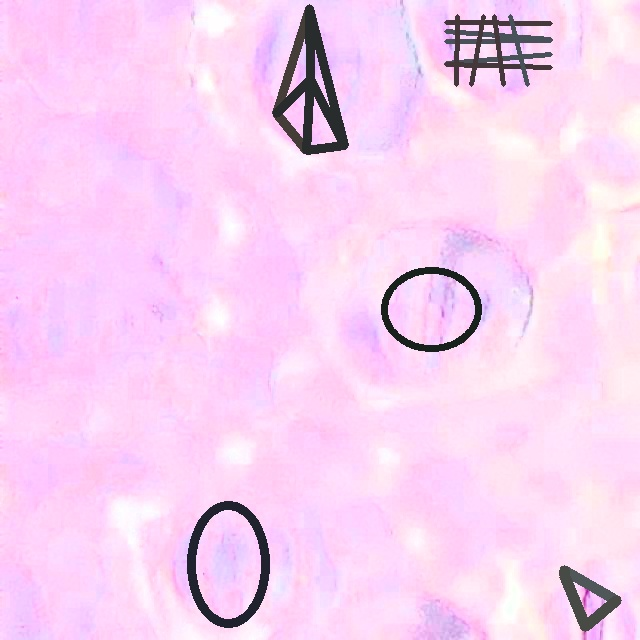open: (273, 5, 348, 153), (186, 500, 269, 628), (381, 267, 482, 351), (445, 15, 551, 86), (559, 566, 620, 631)
